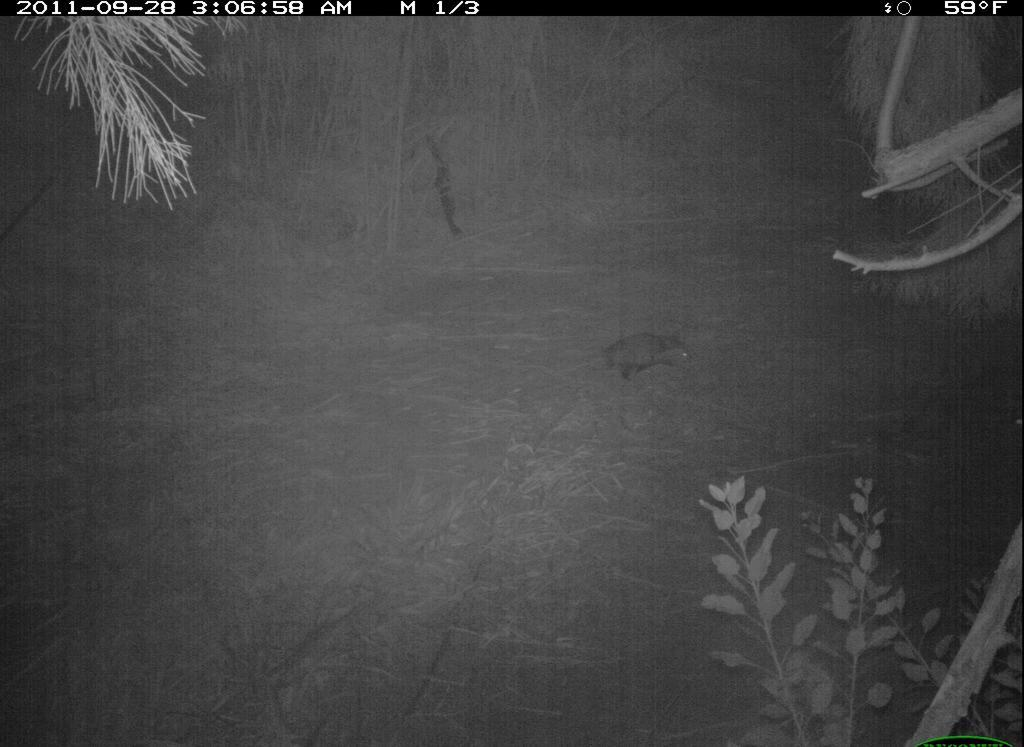opossum: (593, 318, 696, 383)
